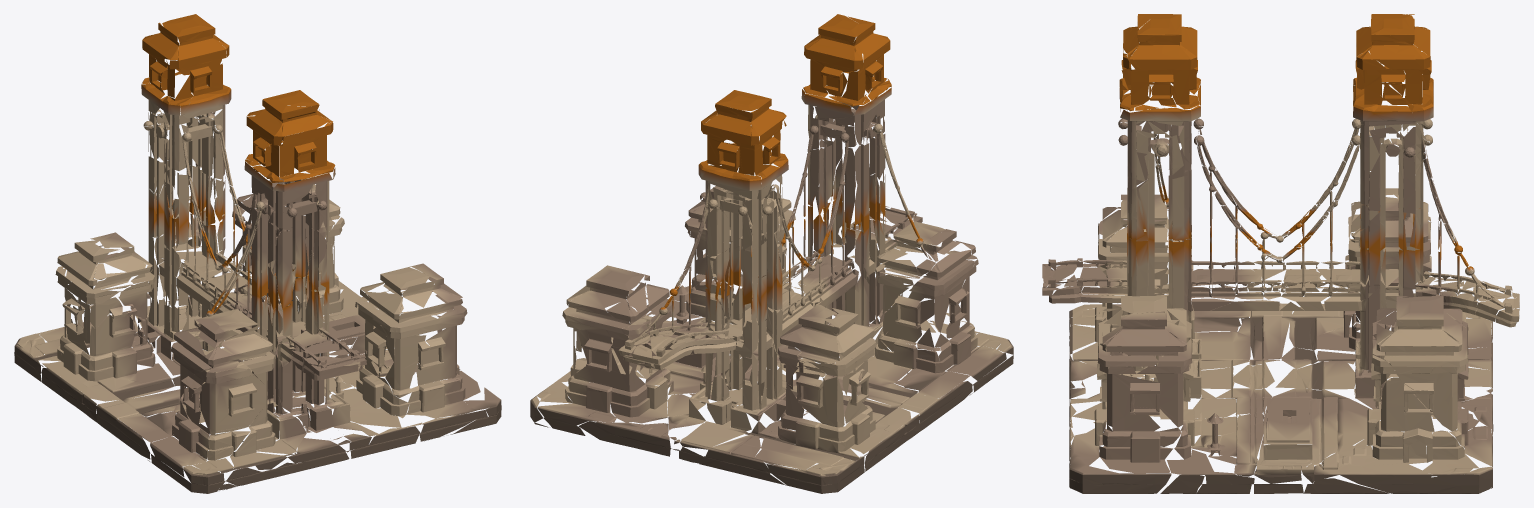
File: hero-bridge.glb
The picture shows the model from 3 angles, left to right: view 1: azimuth 30°, elevation 25°; view 2: azimuth 150°, elevation 25°; view 3: azimuth 270°, elevation 25°; orthographic projection. The views are drawn at different scales.
Parts seen in each view (by area): view 1: world; view 2: world; view 3: world.
Part boxes in pixels (box(x1,y1,x2,y2)): world: box(14, 14, 501, 493); world: box(530, 14, 1013, 493); world: box(1042, 14, 1519, 493).
Bounding box in the file's own units: 2.27 × 2.34 × 2.7.
